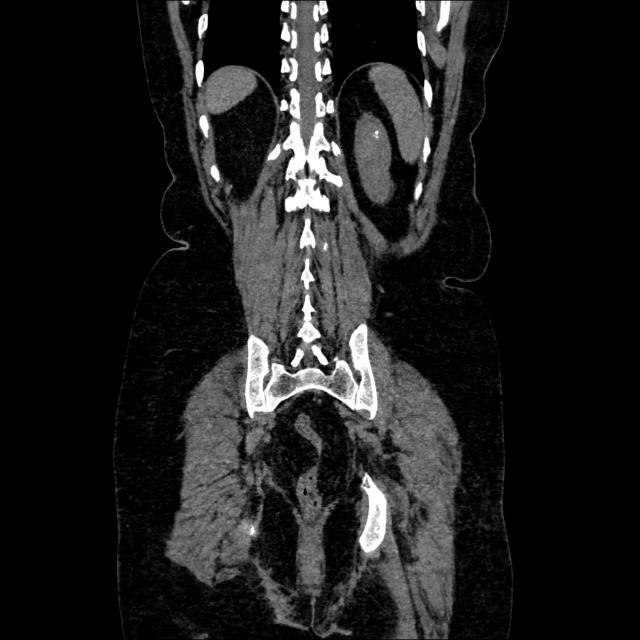kidney: (358, 122, 390, 200)
stone: (374, 131, 378, 137)
